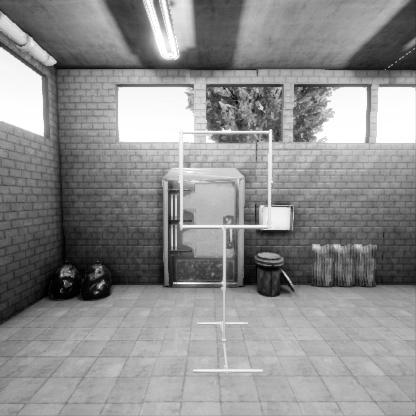gate: (178, 191, 278, 290)
